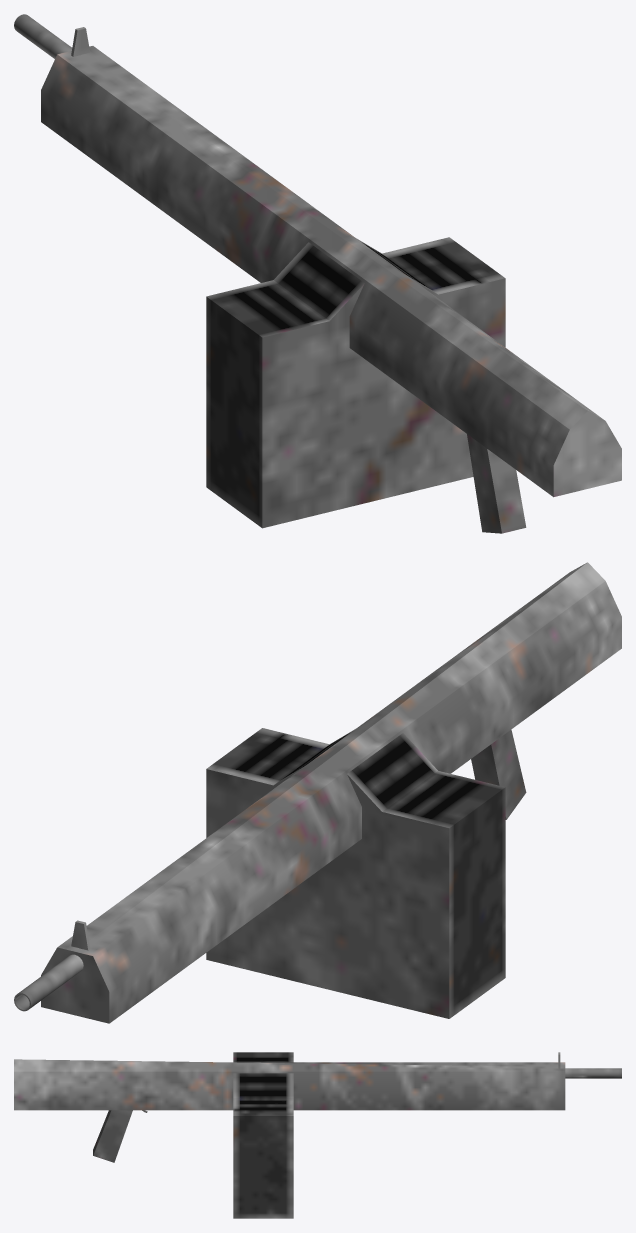
The model's file is MachineGun.fbx.
3 renders of one model, top to bottom at view 1: azimuth 30°, elevation 25°; view 2: azimuth 150°, elevation 25°; view 3: azimuth 270°, elevation 25°, orthographic. The views are drawn at different scales.
Visible parts, largest first — view 1: MachineGun1:MachineGun; view 2: MachineGun1:MachineGun; view 3: MachineGun1:MachineGun.
Boxes of the visible parts, x1,y1,x2,y2 form: MachineGun1:MachineGun: (14,14,621,533); MachineGun1:MachineGun: (14,562,621,1023); MachineGun1:MachineGun: (14,1052,621,1218).
Size of the model in its own units: 20 by 19.5 by 80.54.
